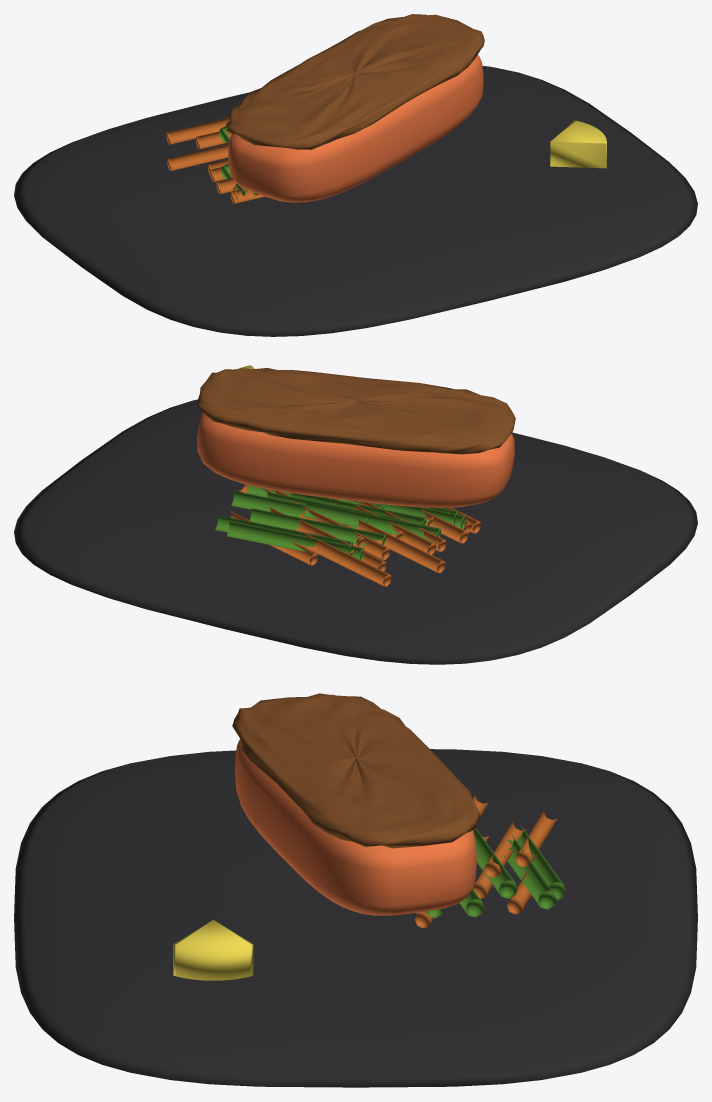
File: salmao-em-crosta-de-ervas.glb
The picture shows the model from 3 angles, top to bottom: view 1: azimuth 30°, elevation 25°; view 2: azimuth 150°, elevation 25°; view 3: azimuth 270°, elevation 25°; orthographic projection. The views are drawn at different scales.
Parts seen in each view (by area): view 1: salmao-em-crosta-de-ervas; view 2: salmao-em-crosta-de-ervas; view 3: salmao-em-crosta-de-ervas.
Boxes of the visible parts, <box> form: salmao-em-crosta-de-ervas: <box>14,14,697,336</box>; salmao-em-crosta-de-ervas: <box>14,365,697,664</box>; salmao-em-crosta-de-ervas: <box>14,693,697,1087</box>.
Size of the model in its own units: 0.28 by 0.0736 by 0.24.
